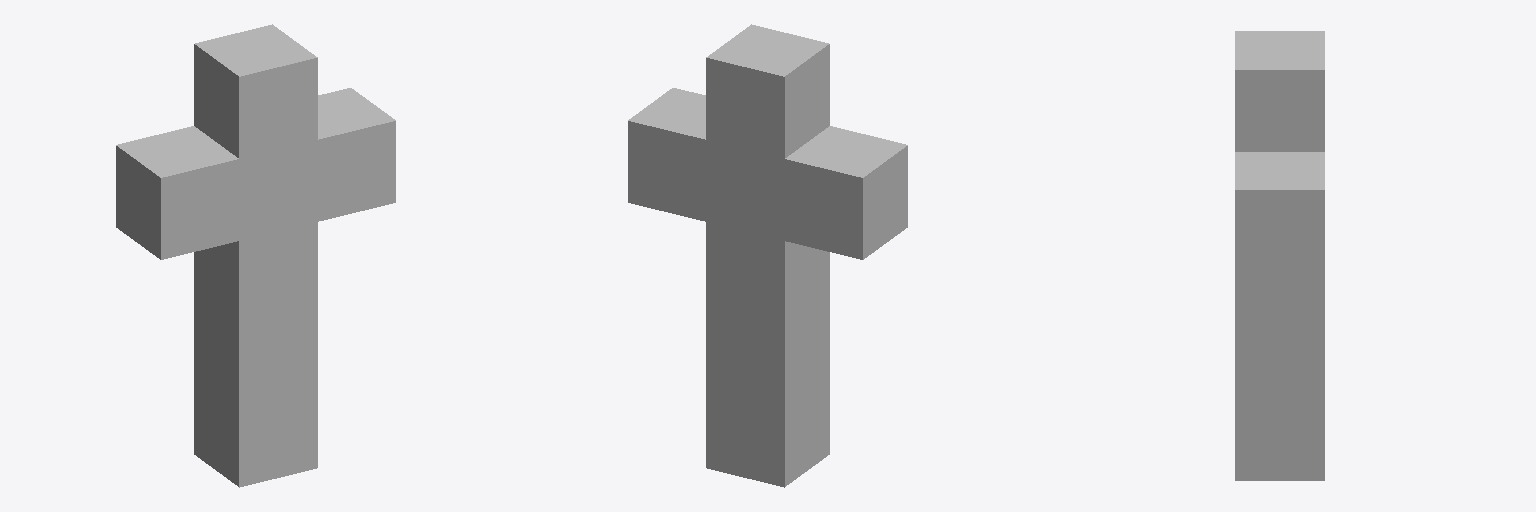
File: cross.obj
The picture shows the model from 3 angles: view 1: azimuth 30°, elevation 25°; view 2: azimuth 150°, elevation 25°; view 3: azimuth 270°, elevation 25°; orthographic projection.
Visible parts, largest first — view 1: Cube.001; view 2: Cube.001; view 3: Cube.001.
Boxes of the visible parts, x1=… form: Cube.001: x1=116, y1=24, x2=395, y2=487; Cube.001: x1=628, y1=24, x2=907, y2=487; Cube.001: x1=1235, y1=31, x2=1324, y2=480.
Bounding box in the file's own units: 1.2 × 2 × 0.4.